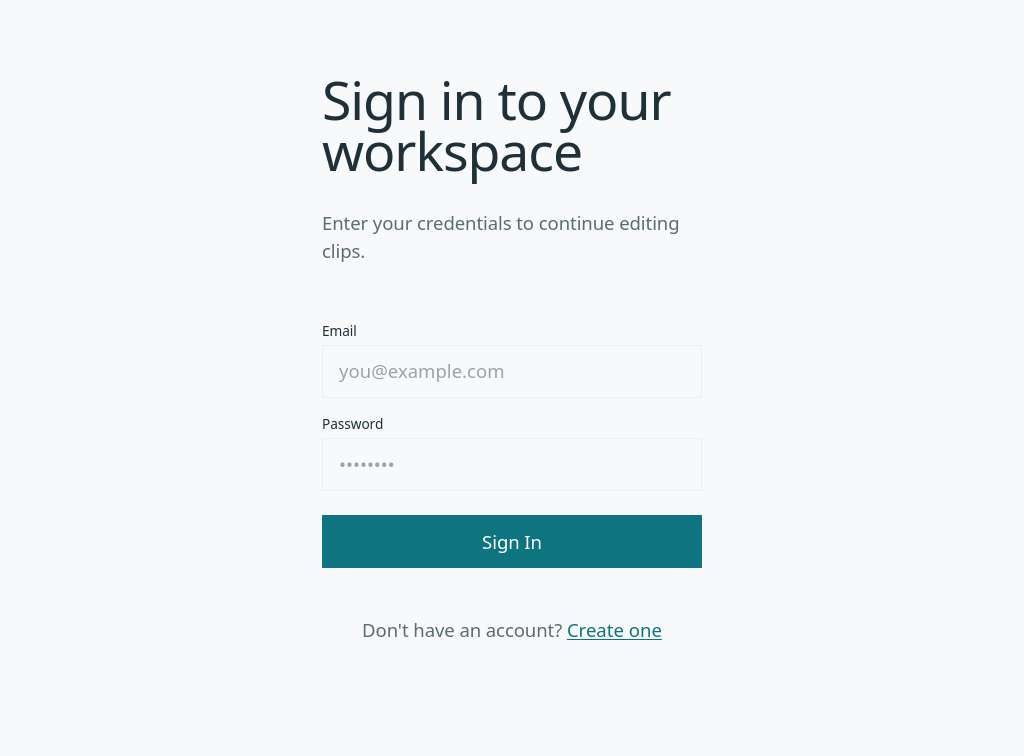
Test: root provider, forms and HTTP integration (F1–F3) › submits exact true form data, locks pending controls and authenticates
The width and height of the screenshot is (1024, 756).
(page scrolled)
Expected: the button "Sign In" is shown, left=322, top=515, right=702, bottom=568
Click the button "Create one": (614, 630) left=567, top=616, right=662, bottom=644
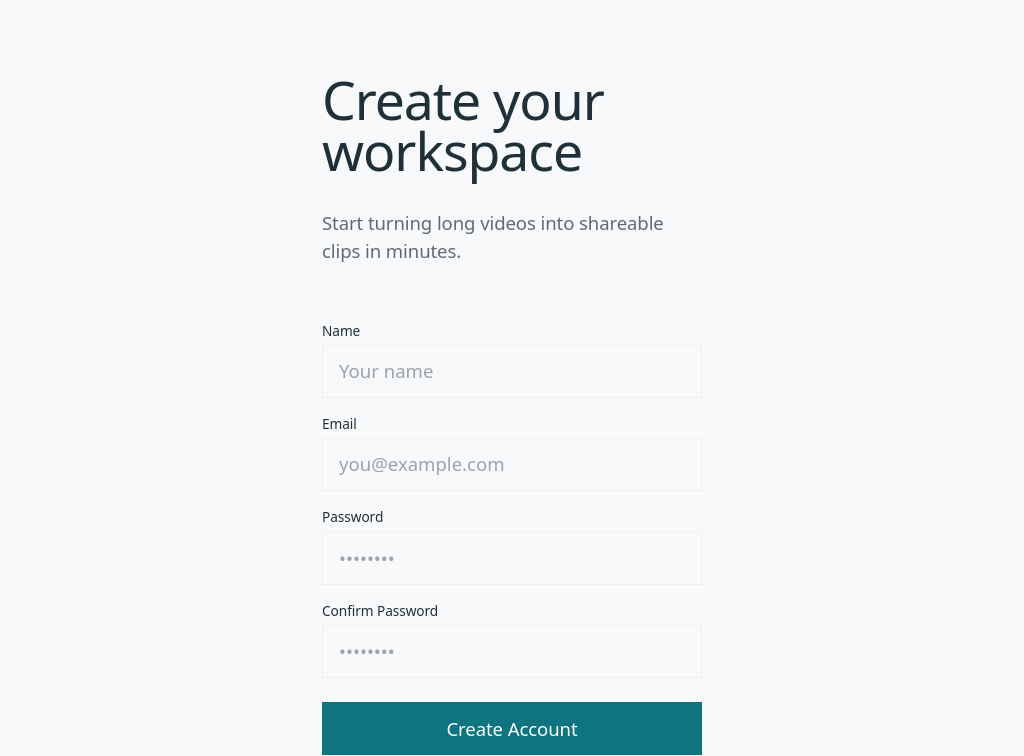
In the field labelled "Name": (512, 372) left=322, top=345, right=702, bottom=398, type "Mira Vale"
In the field labelled "Email": (512, 465) left=322, top=438, right=702, bottom=491, type "mira@example.test"
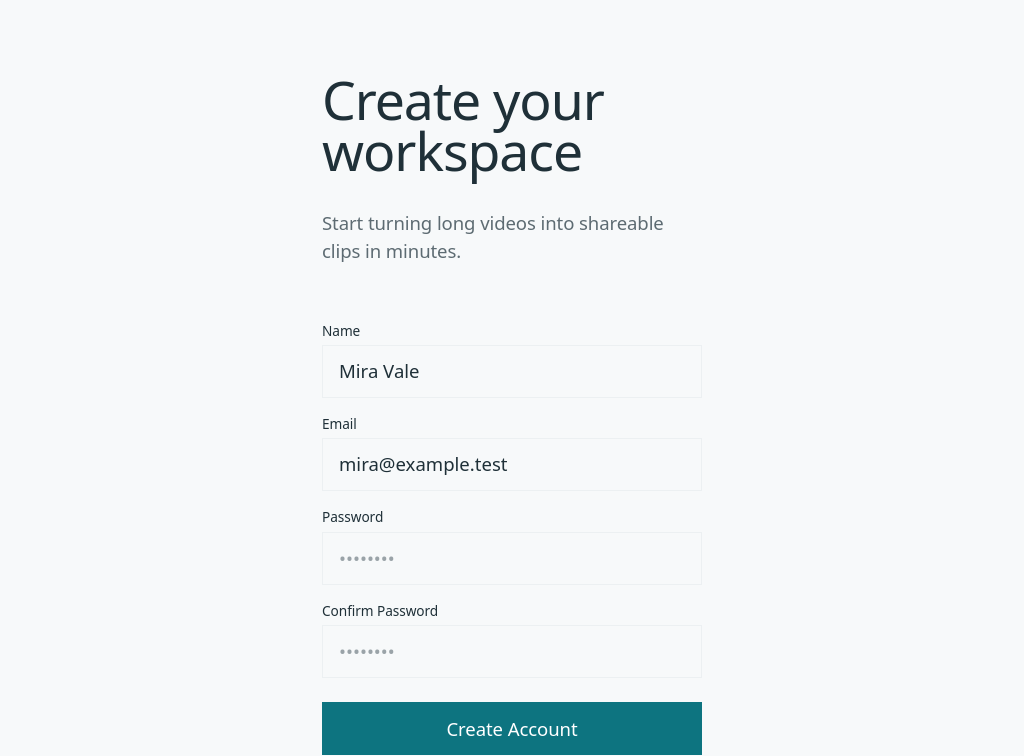
In the password field labelled "Password": (512, 558) left=322, top=532, right=702, bottom=585, type "test-password"
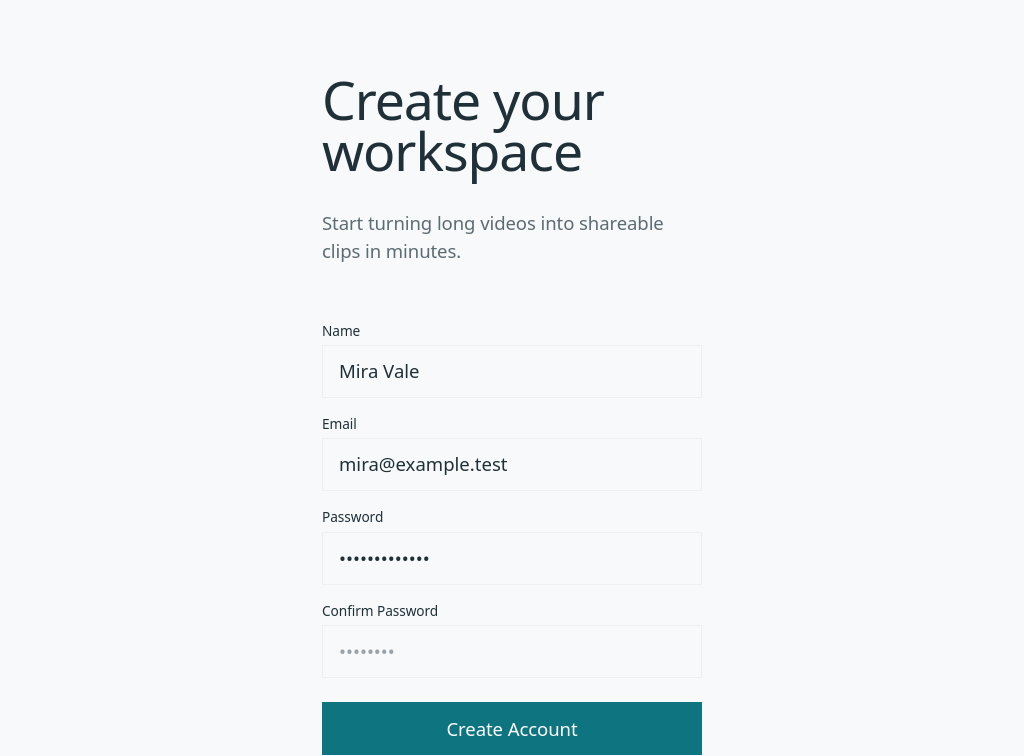
In the password field labelled "Confirm Password": (512, 652) left=322, top=625, right=702, bottom=678, type "test-password"
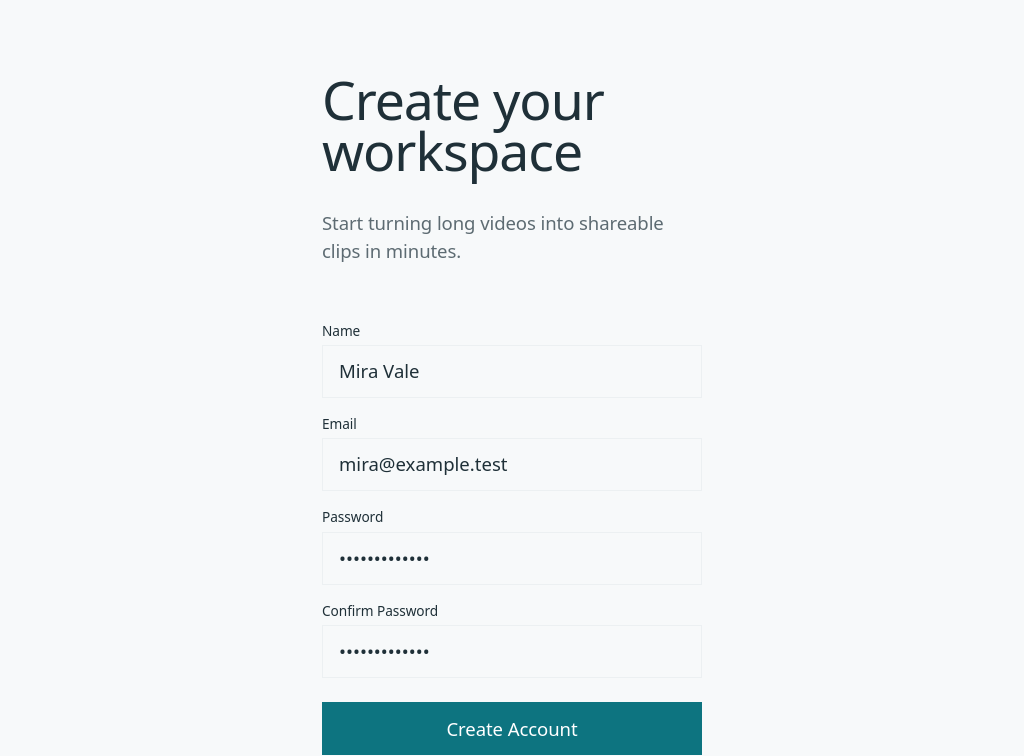
Submit the form labelled "Email", box left=322, top=321, right=702, bottom=755
(page scrolled)
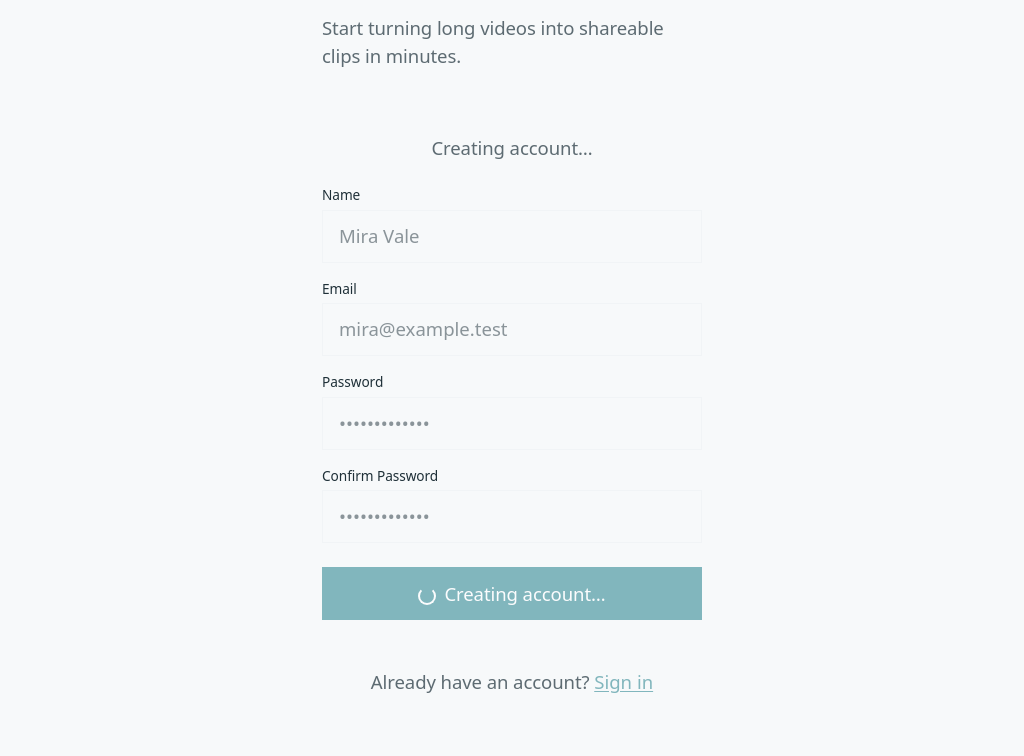
Expected: the field labelled "Name" is disabled, left=322, top=210, right=702, bottom=263
Expected: the field labelled "Email" is disabled, left=322, top=303, right=702, bottom=356
Expected: the password field labelled "Password" is disabled, left=322, top=397, right=702, bottom=450
Submit the form labelled "Email", box left=322, top=126, right=702, bottom=620
Submit the form labelled "Email", box left=322, top=126, right=702, bottom=620
(page scrolled)
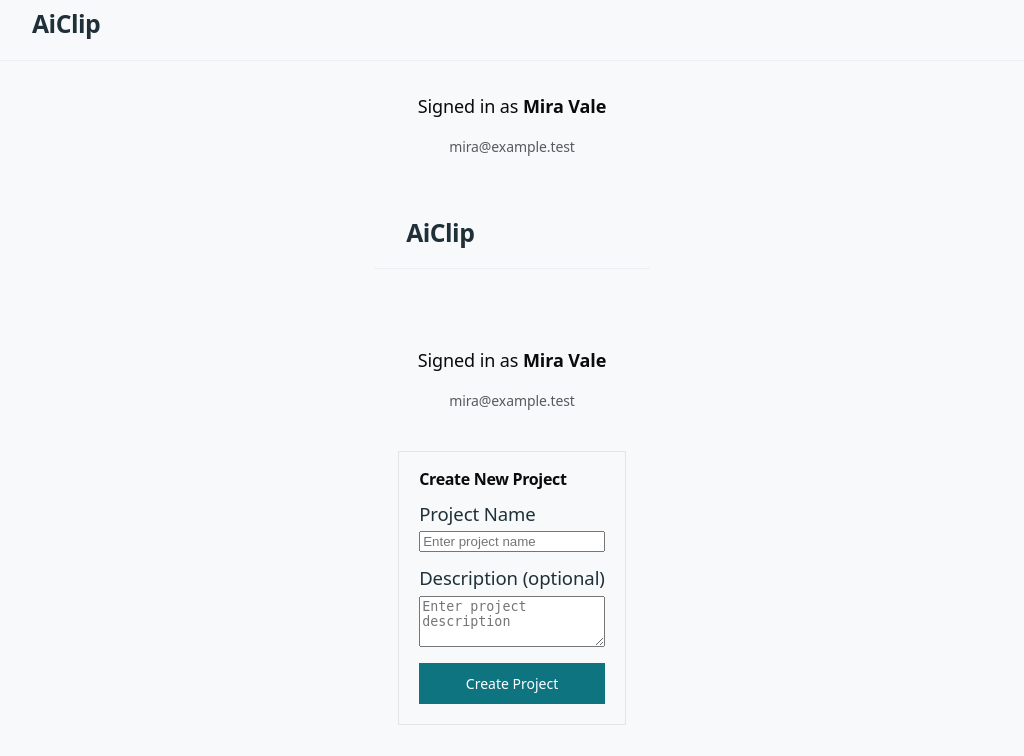
Expected: the 1st text "mira@example.test" is shown, left=449, top=136, right=575, bottom=156
